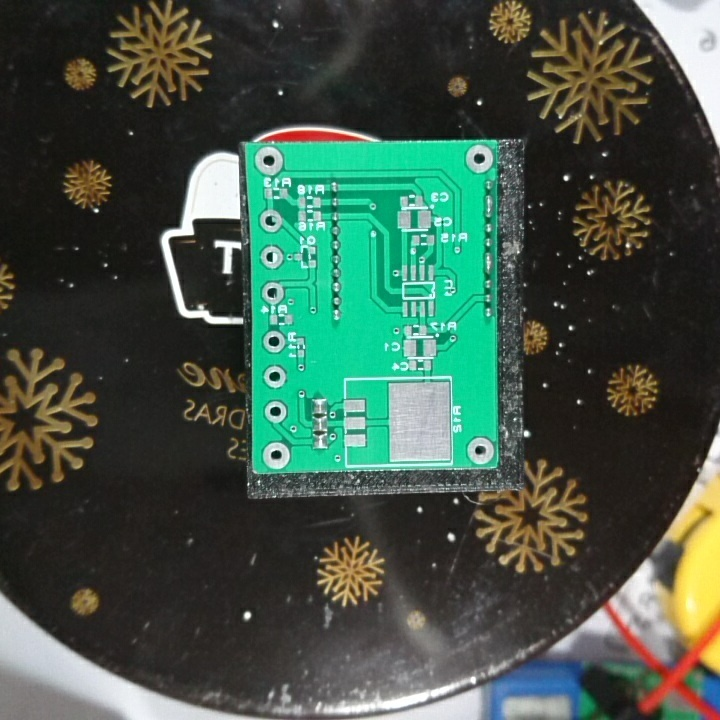F: (462, 141, 496, 175), (253, 144, 287, 176), (259, 438, 292, 470), (464, 433, 496, 465), (259, 363, 290, 391), (257, 207, 284, 235), (259, 278, 285, 307), (261, 329, 288, 356), (259, 242, 285, 270), (262, 398, 288, 425)
P: (480, 249, 496, 278), (482, 192, 496, 220)
